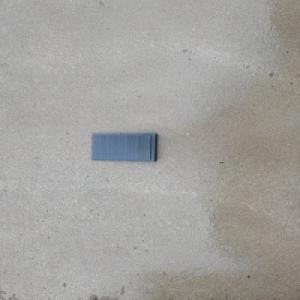PlasticPart: (89, 132, 159, 162)
